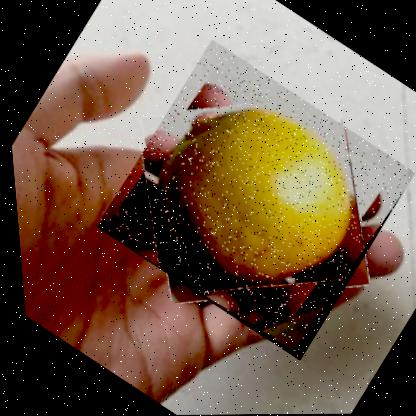orange: (78, 37, 415, 363)
